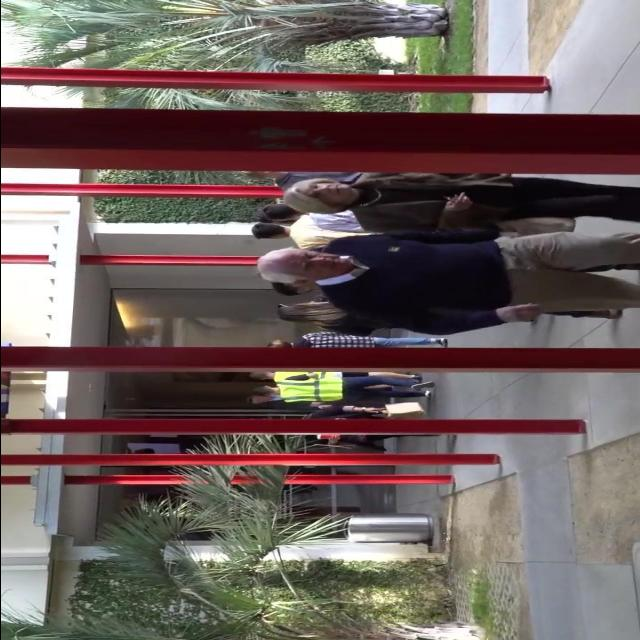jacket: (269, 377, 347, 407)
